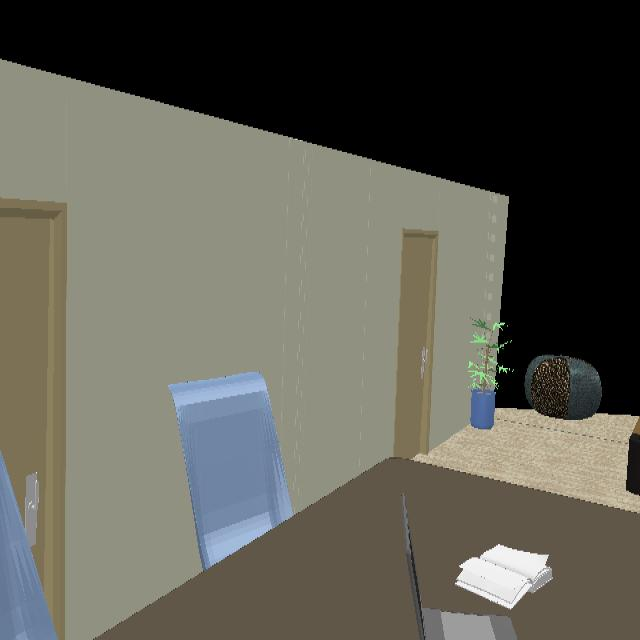book: (456, 545, 552, 609)
chair: (170, 373, 292, 569)
laptop: (401, 493, 516, 640)
table: (100, 458, 640, 639)
